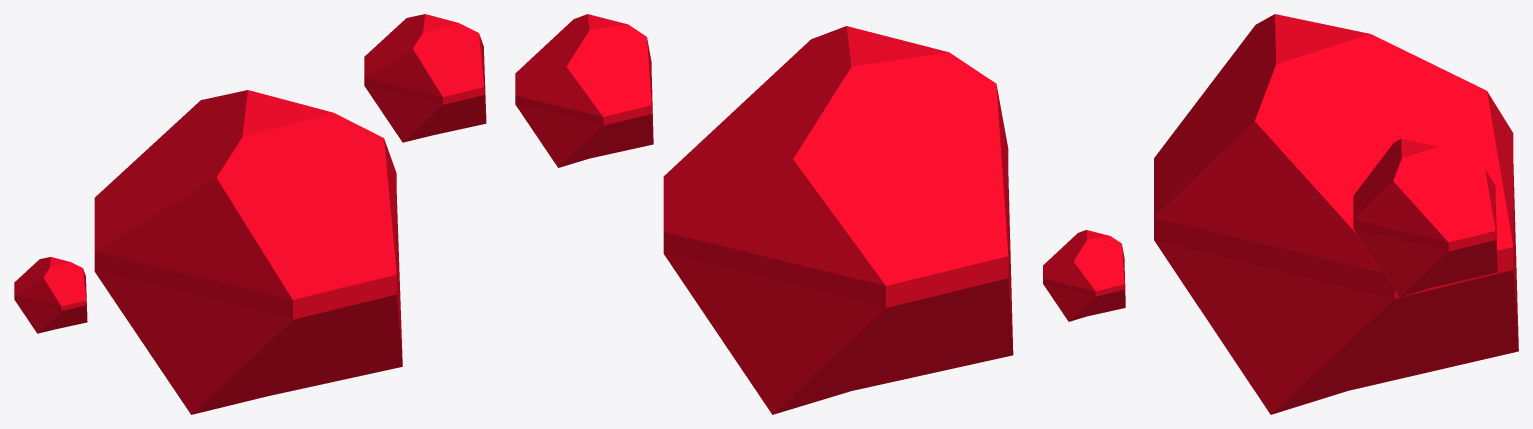
The model's file is RedBerry.fbx.
3 renders of one model, left to right at view 1: azimuth 30°, elevation 25°; view 2: azimuth 150°, elevation 25°; view 3: azimuth 270°, elevation 25°, orthographic. The views are drawn at different scales.
Visible parts, largest first — view 1: Sphere, Sphere.002, Sphere.001; view 2: Sphere, Sphere.002, Sphere.001; view 3: Sphere, Sphere.002.
Part boxes in pixels (box(x1,y1,x2,y2)): Sphere: box(94, 90, 402, 414); Sphere.002: box(364, 14, 486, 142); Sphere.001: box(14, 257, 87, 333); Sphere: box(663, 26, 1013, 414); Sphere.002: box(515, 14, 653, 167); Sphere.001: box(1043, 230, 1125, 321); Sphere: box(1154, 14, 1518, 414); Sphere.002: box(1353, 138, 1497, 297).
Size of the model in its own units: 8.28 by 4.75 by 4.41.
